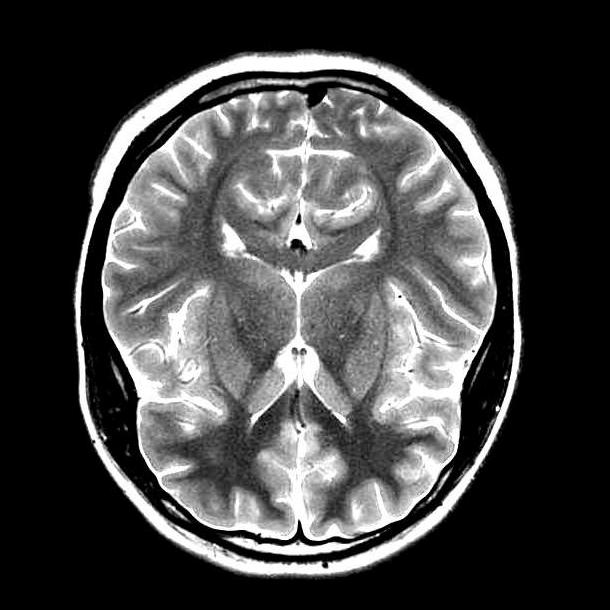Normal_Brain: (27, 1, 565, 610)
